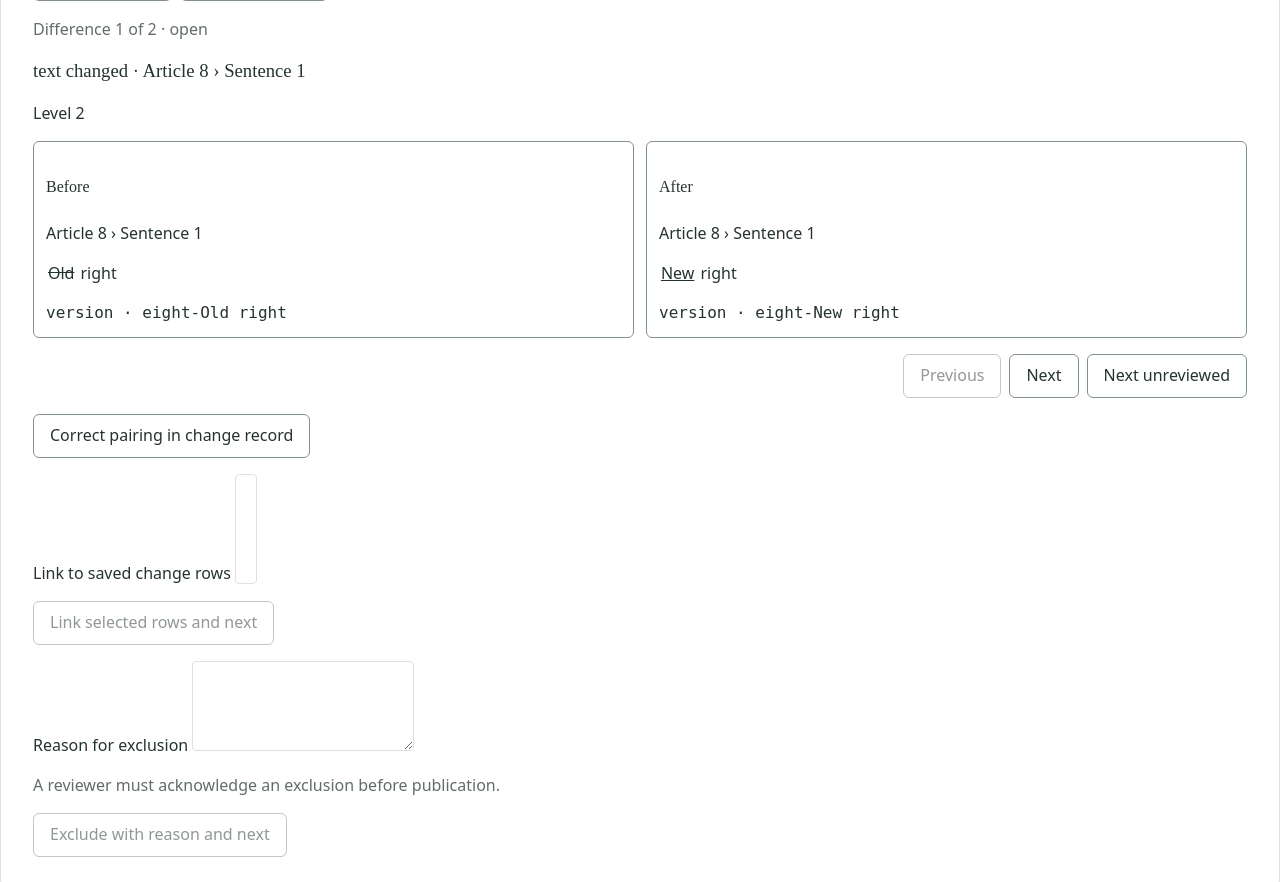
Test: guided difference review › advances the editor to the next open finding after an exclusion proposal
(page scrolled)
In the text box labelled "Reason for exclusion": {"x": 303, "y": 706} [192,661,414,751], type "Separate legal record"
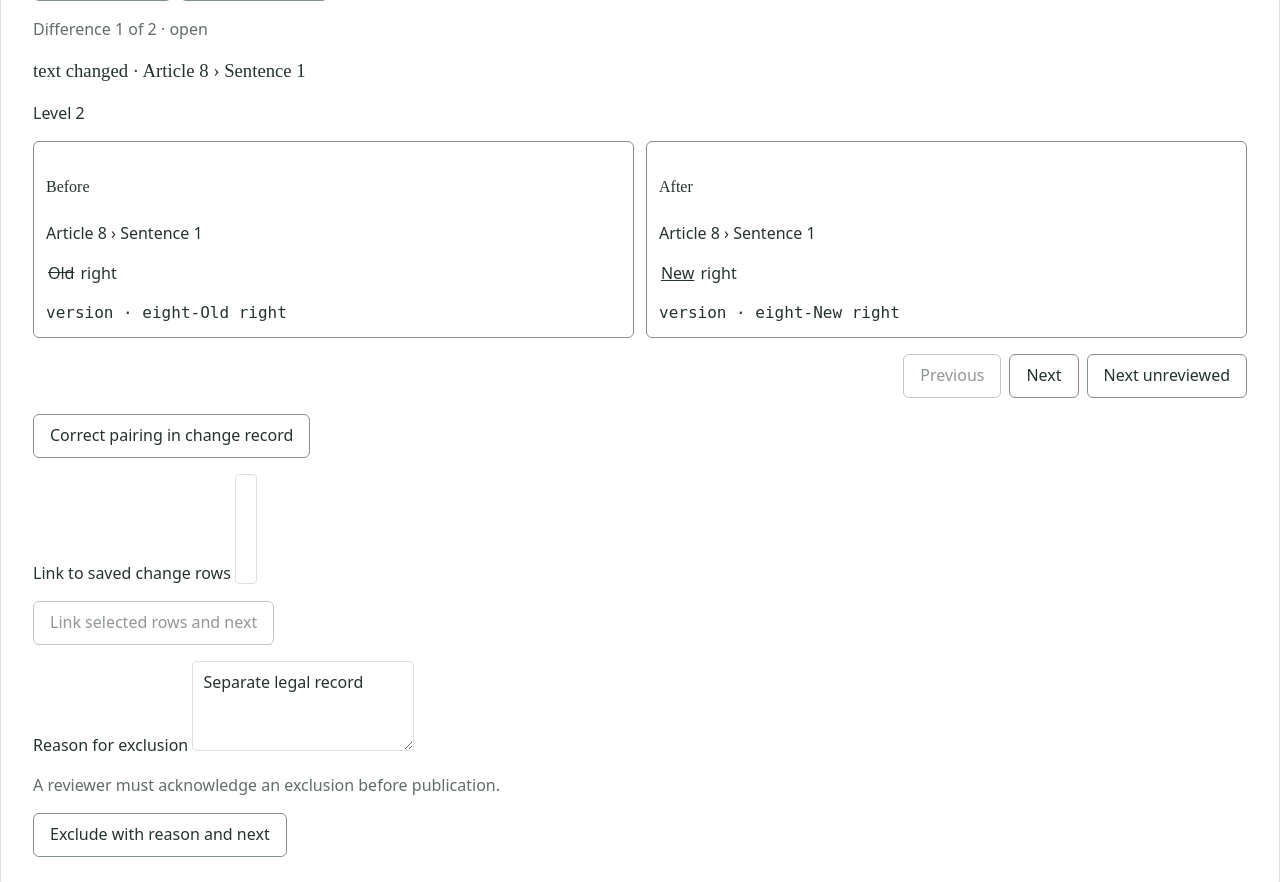
Click the button "Exclude with reason and next": {"x": 160, "y": 835} [33,813,287,857]
(page scrolled)
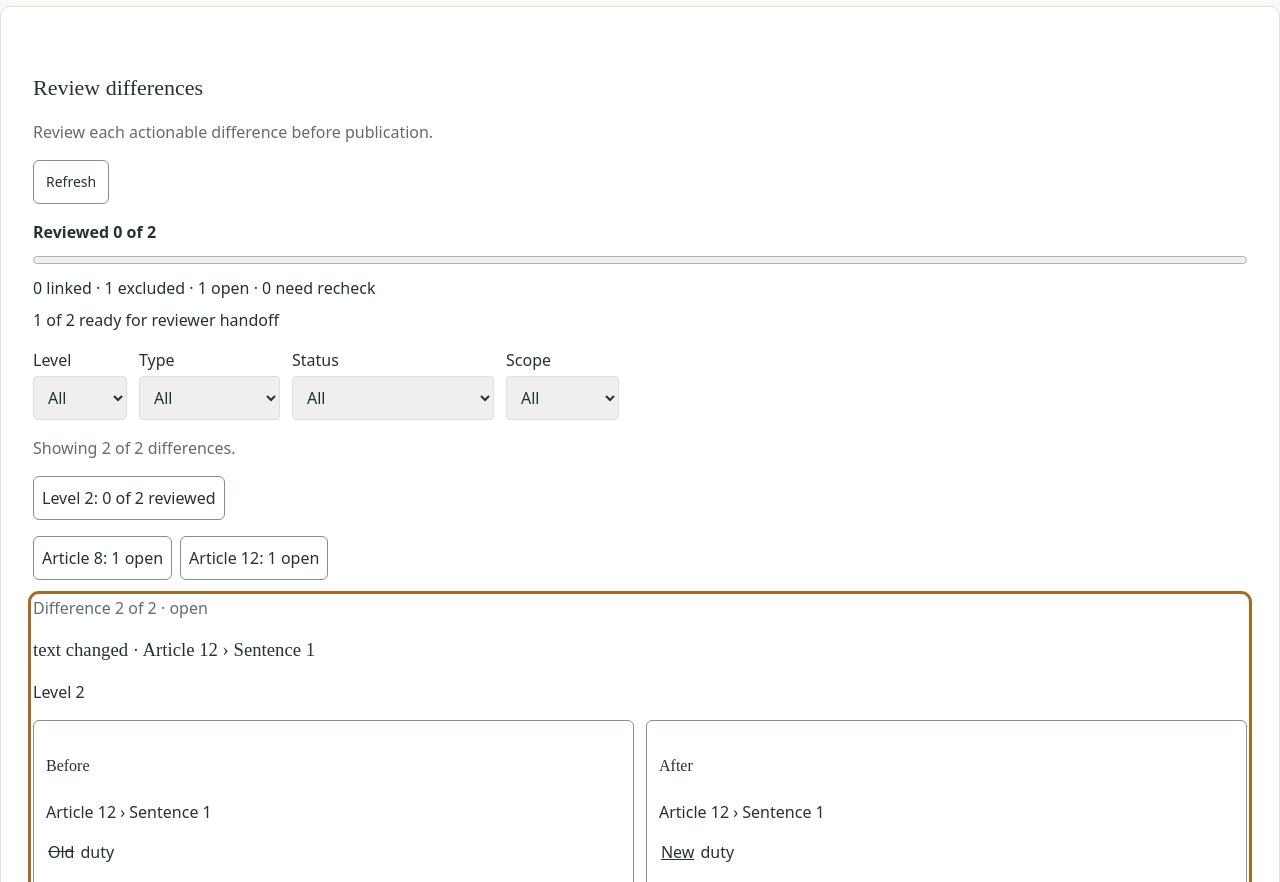
Expected: the text "Reviewed 0 of 2" is shown, [33,221,156,243]
Now the text "Difference 2 of 2" is shown, box [33,597,208,619]
Now the text "1 of 2 ready for reviewer handoff" is shown, box [33,309,279,331]
